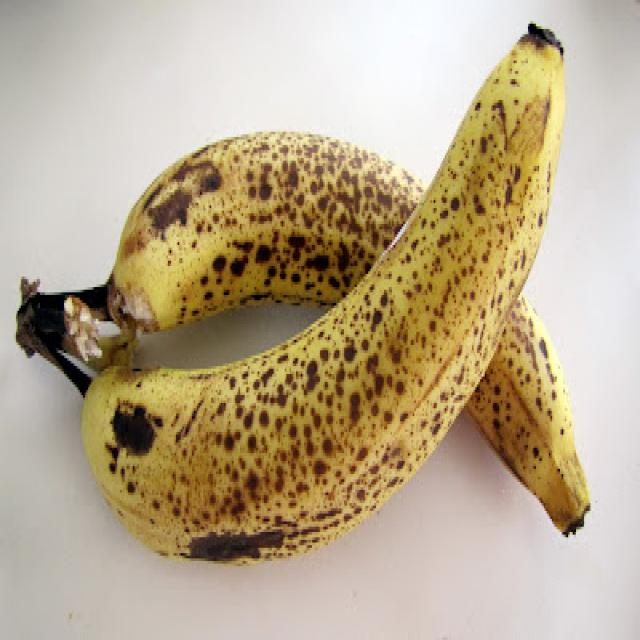Banana: (77, 27, 569, 572), (108, 125, 592, 543)
